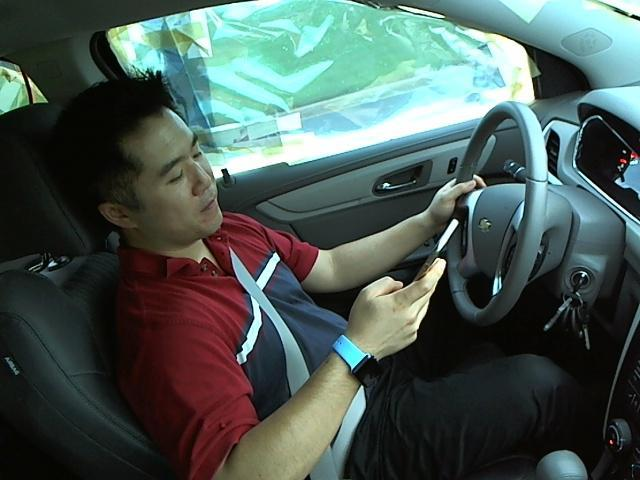PhoneUse: (400, 215, 463, 307)
